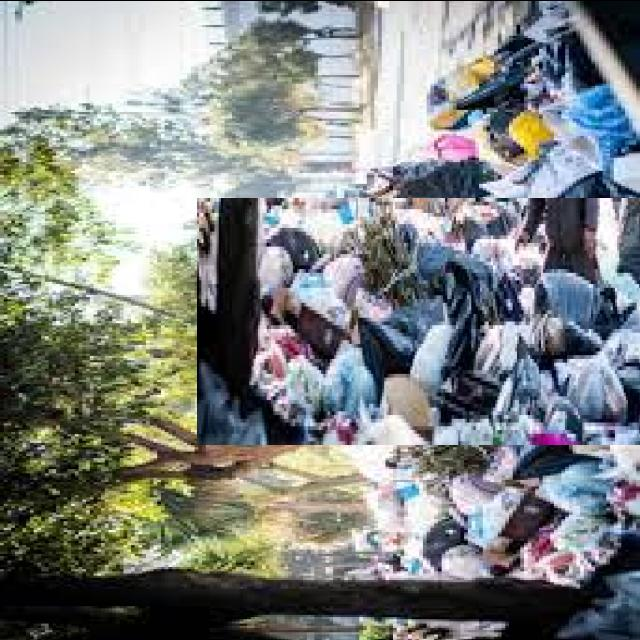garbage: (294, 100, 640, 543)
